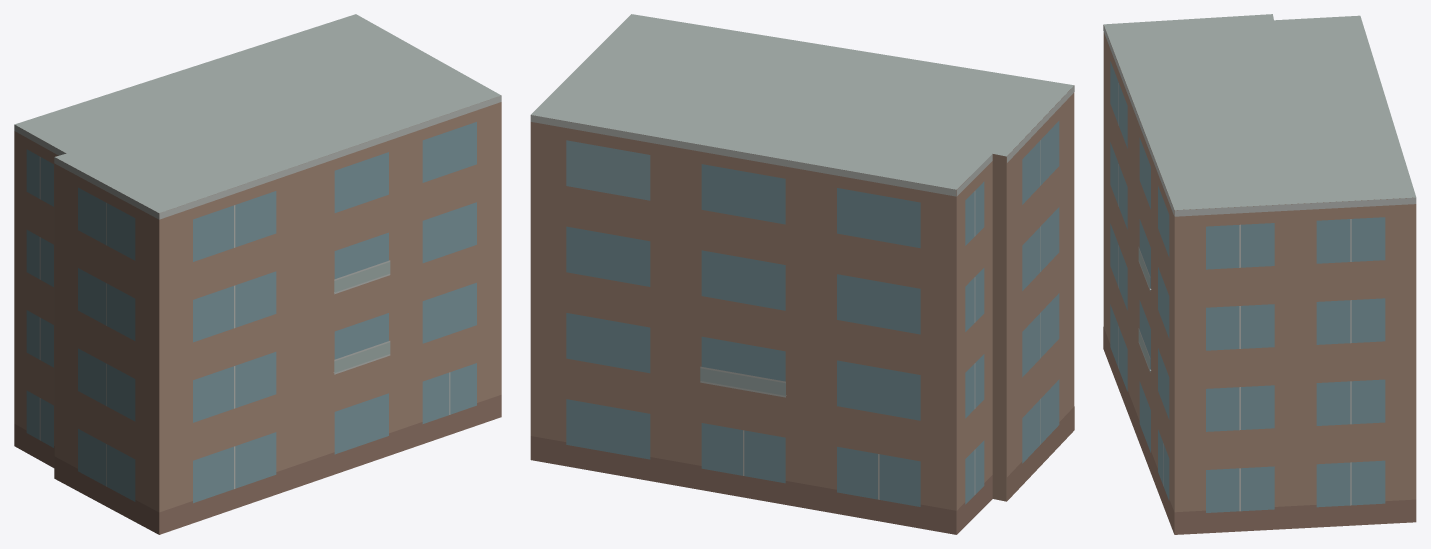
File: survey-upis-32560823.glb
The picture shows the model from 3 angles, left to right: view 1: azimuth 30°, elevation 25°; view 2: azimuth 150°, elevation 25°; view 3: azimuth 270°, elevation 25°; orthographic projection. The views are drawn at different scales.
Visible parts, largest first — view 1: survey-upis-32560823.tmp; view 2: survey-upis-32560823.tmp; view 3: survey-upis-32560823.tmp.
Boxes of the visible parts, box(x1,y1,x2,y2) form: survey-upis-32560823.tmp: box(14, 14, 501, 534); survey-upis-32560823.tmp: box(530, 14, 1074, 534); survey-upis-32560823.tmp: box(1103, 14, 1416, 534).
Bounding box in the file's own units: 15.82 × 12.2 × 10.67.
